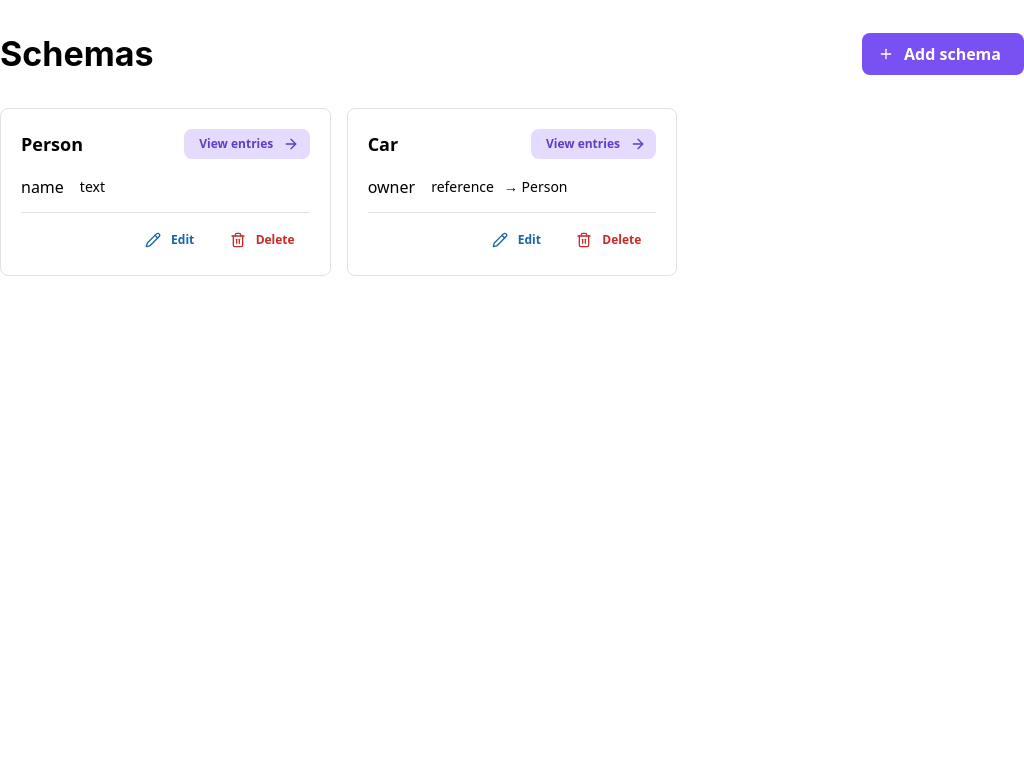
Test: SchemaList › disables the delete confirmation when another schema still references it
The image size is (1024, 768).
Expected: the text "Person" is shown, [21, 130, 83, 159]
Click the button "Delete" below "name" at x=264, y=240, box [219, 225, 310, 255]
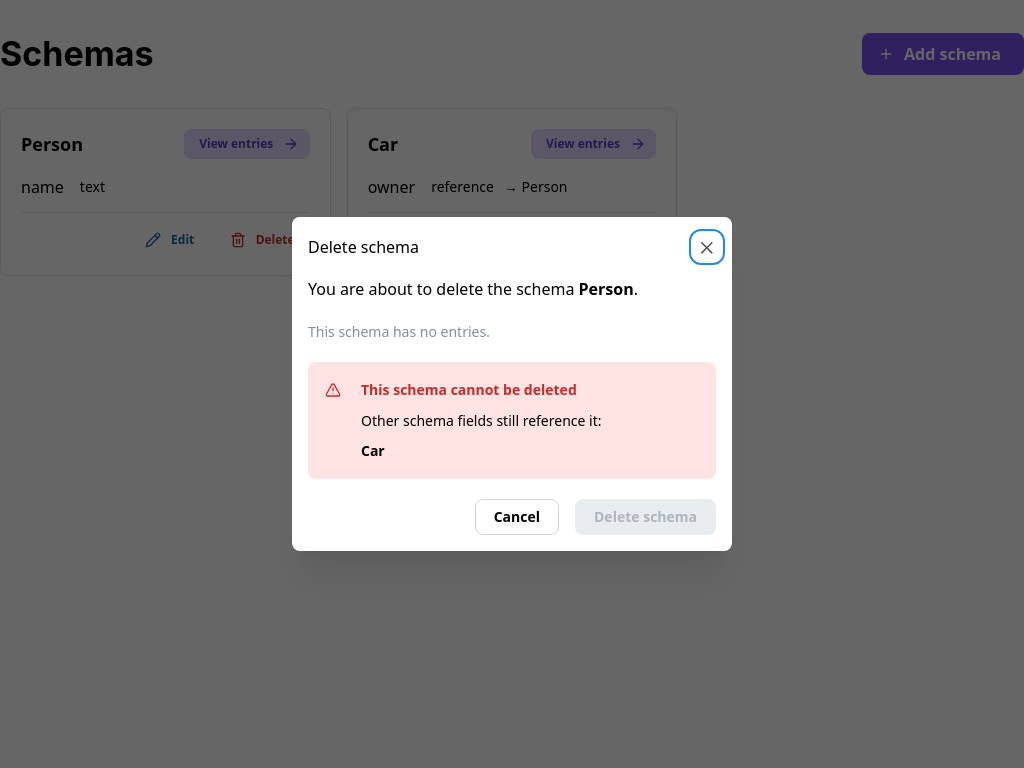
Expected: the button "Delete schema" is disabled, [575, 499, 716, 535]
